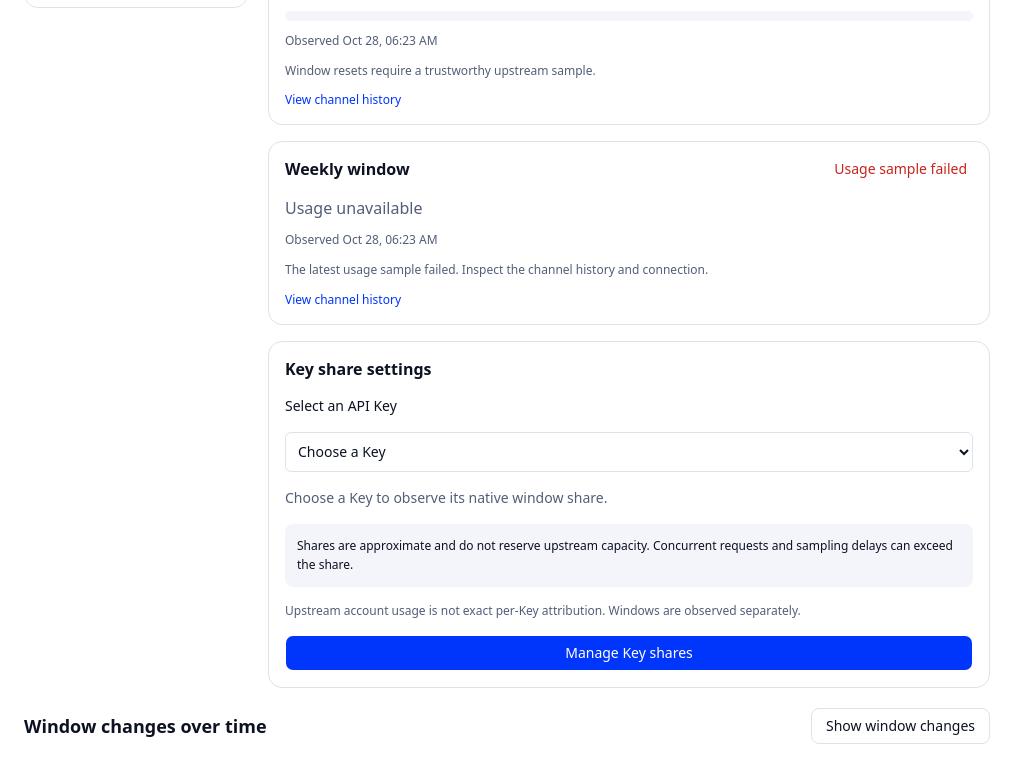
Scenario: window changes over time are read only after an explicit request
The image size is (1024, 764).
(page scrolled)
What coordinates should you click on to do the following:
click the button "Show window changes"
I would click on:
 (900, 726)
Its box is left=811, top=708, right=990, bottom=744.
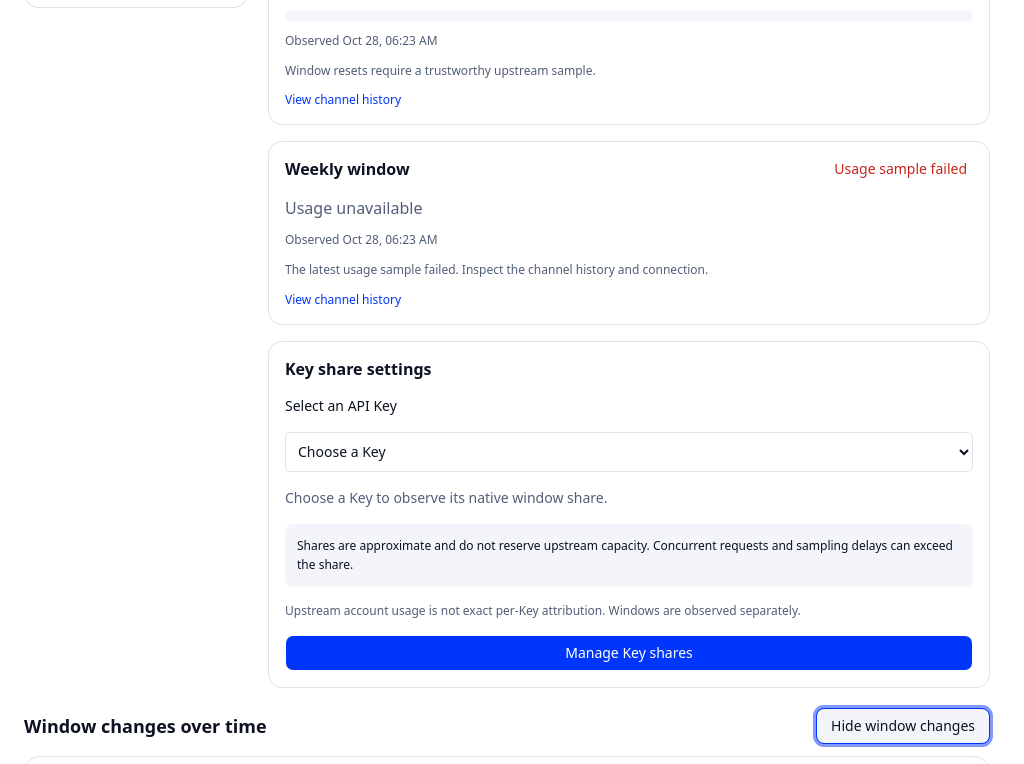
Result: the button "Hide window changes" is expanded at left=816, top=708, right=990, bottom=744
